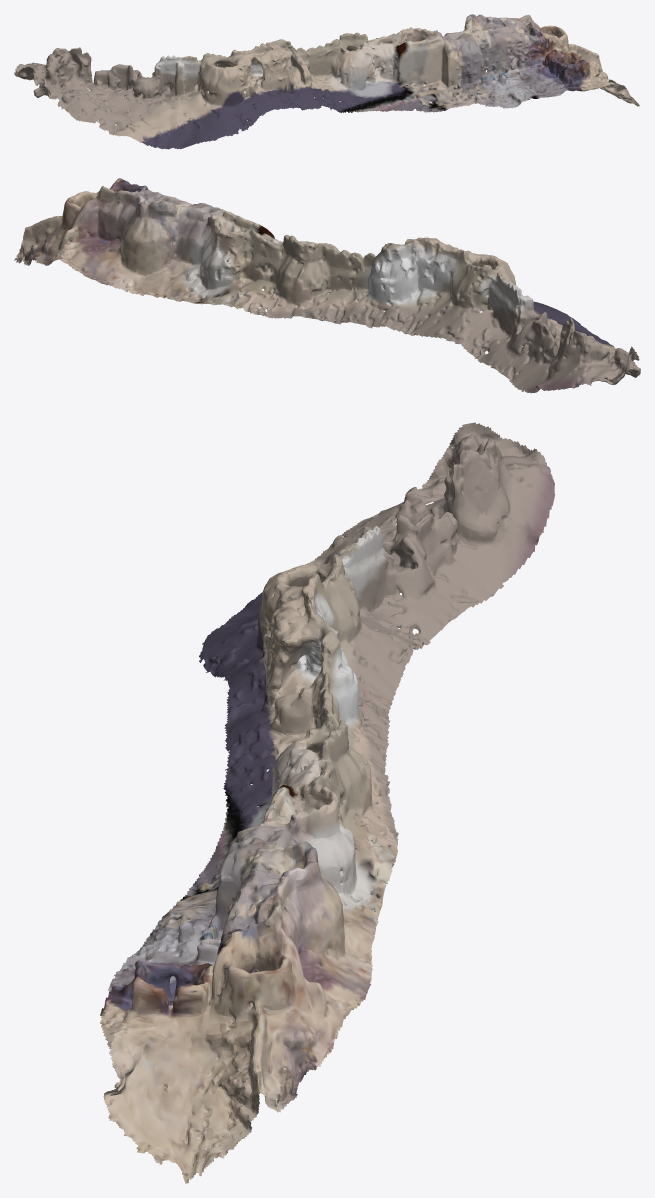
File: room geometry.fbx
3 views of the same model, one above another, from view 1: azimuth 30°, elevation 25°; view 2: azimuth 150°, elevation 25°; view 3: azimuth 270°, elevation 25° (orthographic). The views are drawn at different scales.
Parts seen in each view (by area): view 1: BSP_zuhak; view 2: BSP_zuhak; view 3: BSP_zuhak.
Part boxes in pixels (left/top/right/bottom): BSP_zuhak: left=14, top=14, right=639, bottom=149; BSP_zuhak: left=14, top=178, right=640, bottom=393; BSP_zuhak: left=100, top=422, right=555, bottom=1183.
Bounding box in the file's own units: 132 × 29.74 × 47.89.
